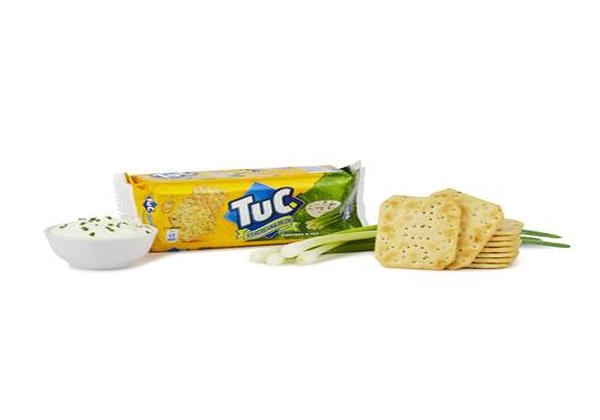crackers tuc: (133, 161, 359, 252)
